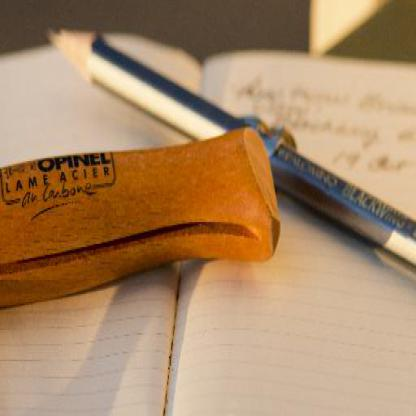knife: (0, 125, 282, 415)
